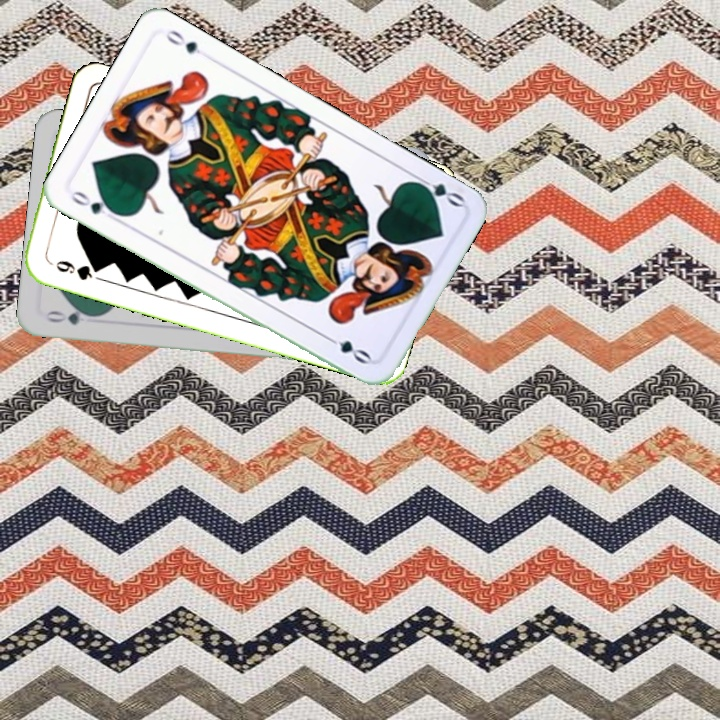G9: (51, 256, 104, 283)
GO: (409, 171, 467, 210), (66, 187, 122, 224), (41, 304, 100, 328)
